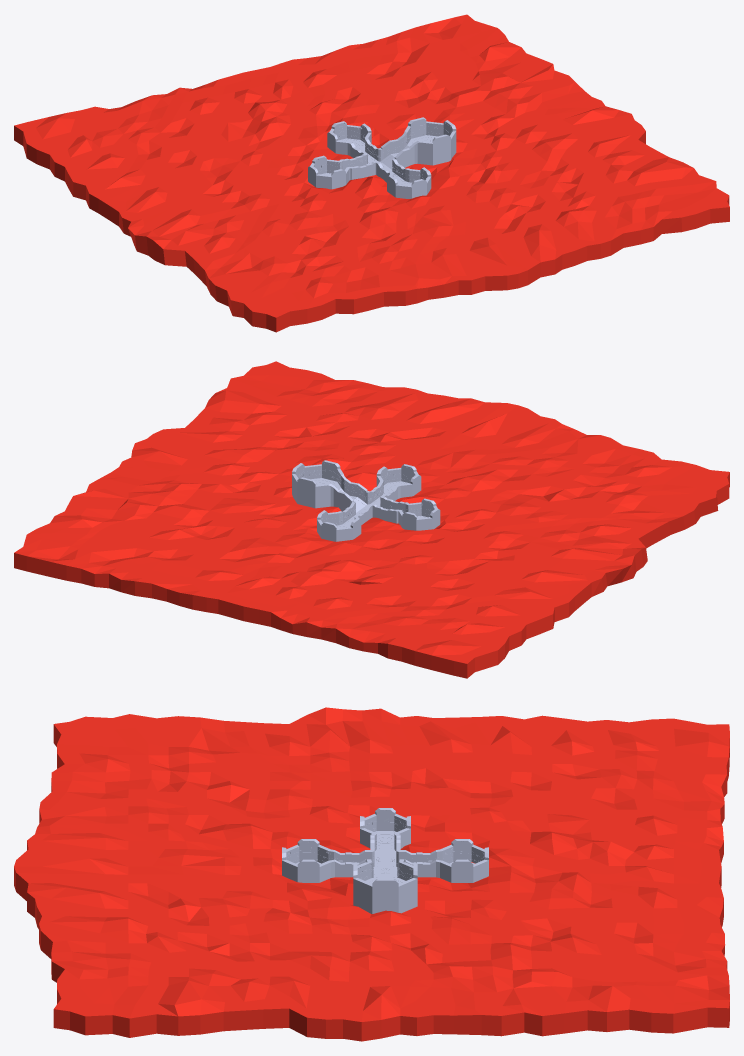
The model's file is Base 1 + Environment.FBX.
The picture shows the model from 3 angles, top to bottom: view 1: azimuth 30°, elevation 25°; view 2: azimuth 150°, elevation 25°; view 3: azimuth 270°, elevation 25°; orthographic projection. The views are drawn at different scales.
Visible parts, largest first — view 1: TerrainTop, Base 1, Wall Details; view 2: TerrainTop, Base 1, Wall Details; view 3: TerrainTop, Base 1, Wall Details.
Boxes of the visible parts, x1=… form: TerrainTop: x1=14, y1=14, x2=729, y2=332; Base 1: x1=308, y1=117, x2=456, y2=198; Wall Details: x1=315, y1=119, x2=451, y2=179; TerrainTop: x1=14, y1=361, x2=729, y2=678; Base 1: x1=292, y1=460, x2=440, y2=541; Wall Details: x1=297, y1=461, x2=432, y2=524; TerrainTop: x1=14, y1=707, x2=729, y2=1041; Base 1: x1=282, y1=808, x2=488, y2=913; Wall Details: x1=286, y1=810, x2=484, y2=878.
Size of the model in its own units: 13116 by 1043 by 12716.
